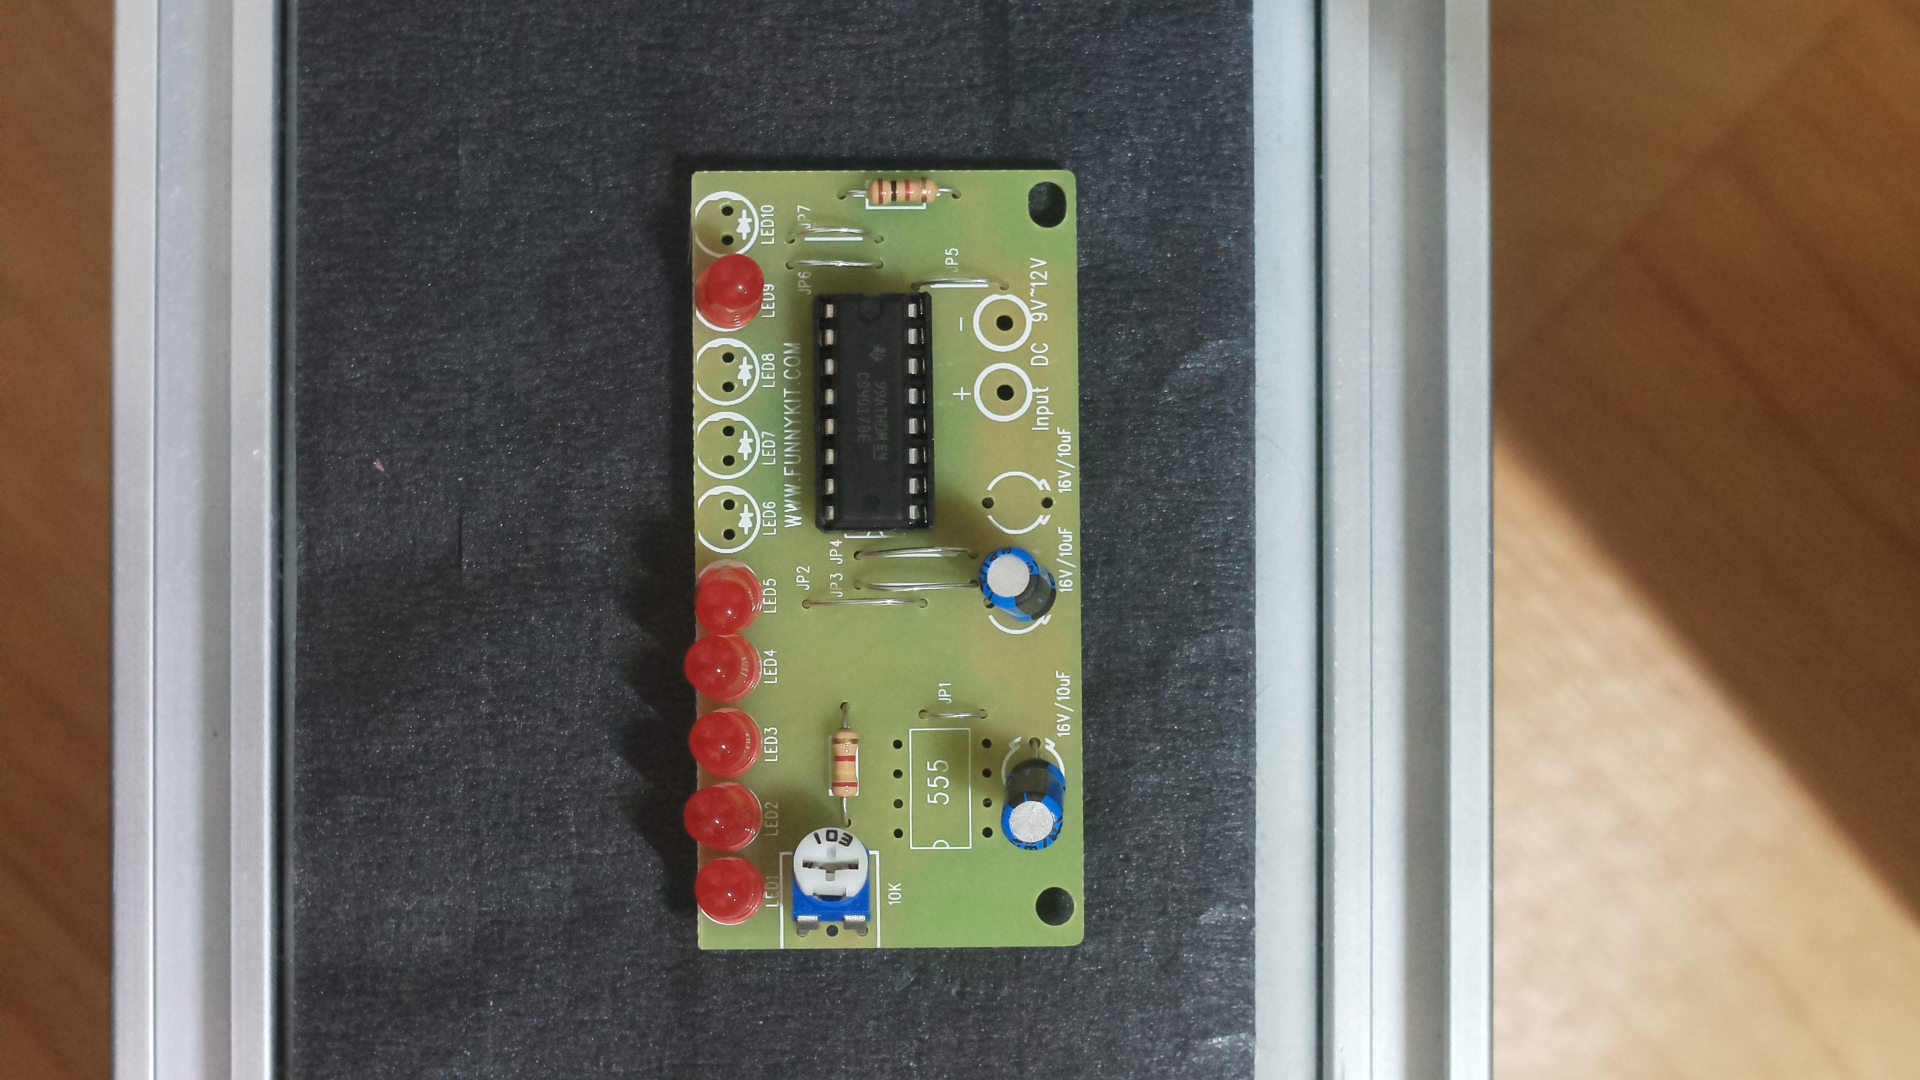B_Missing_part: (679, 144, 1101, 967)
